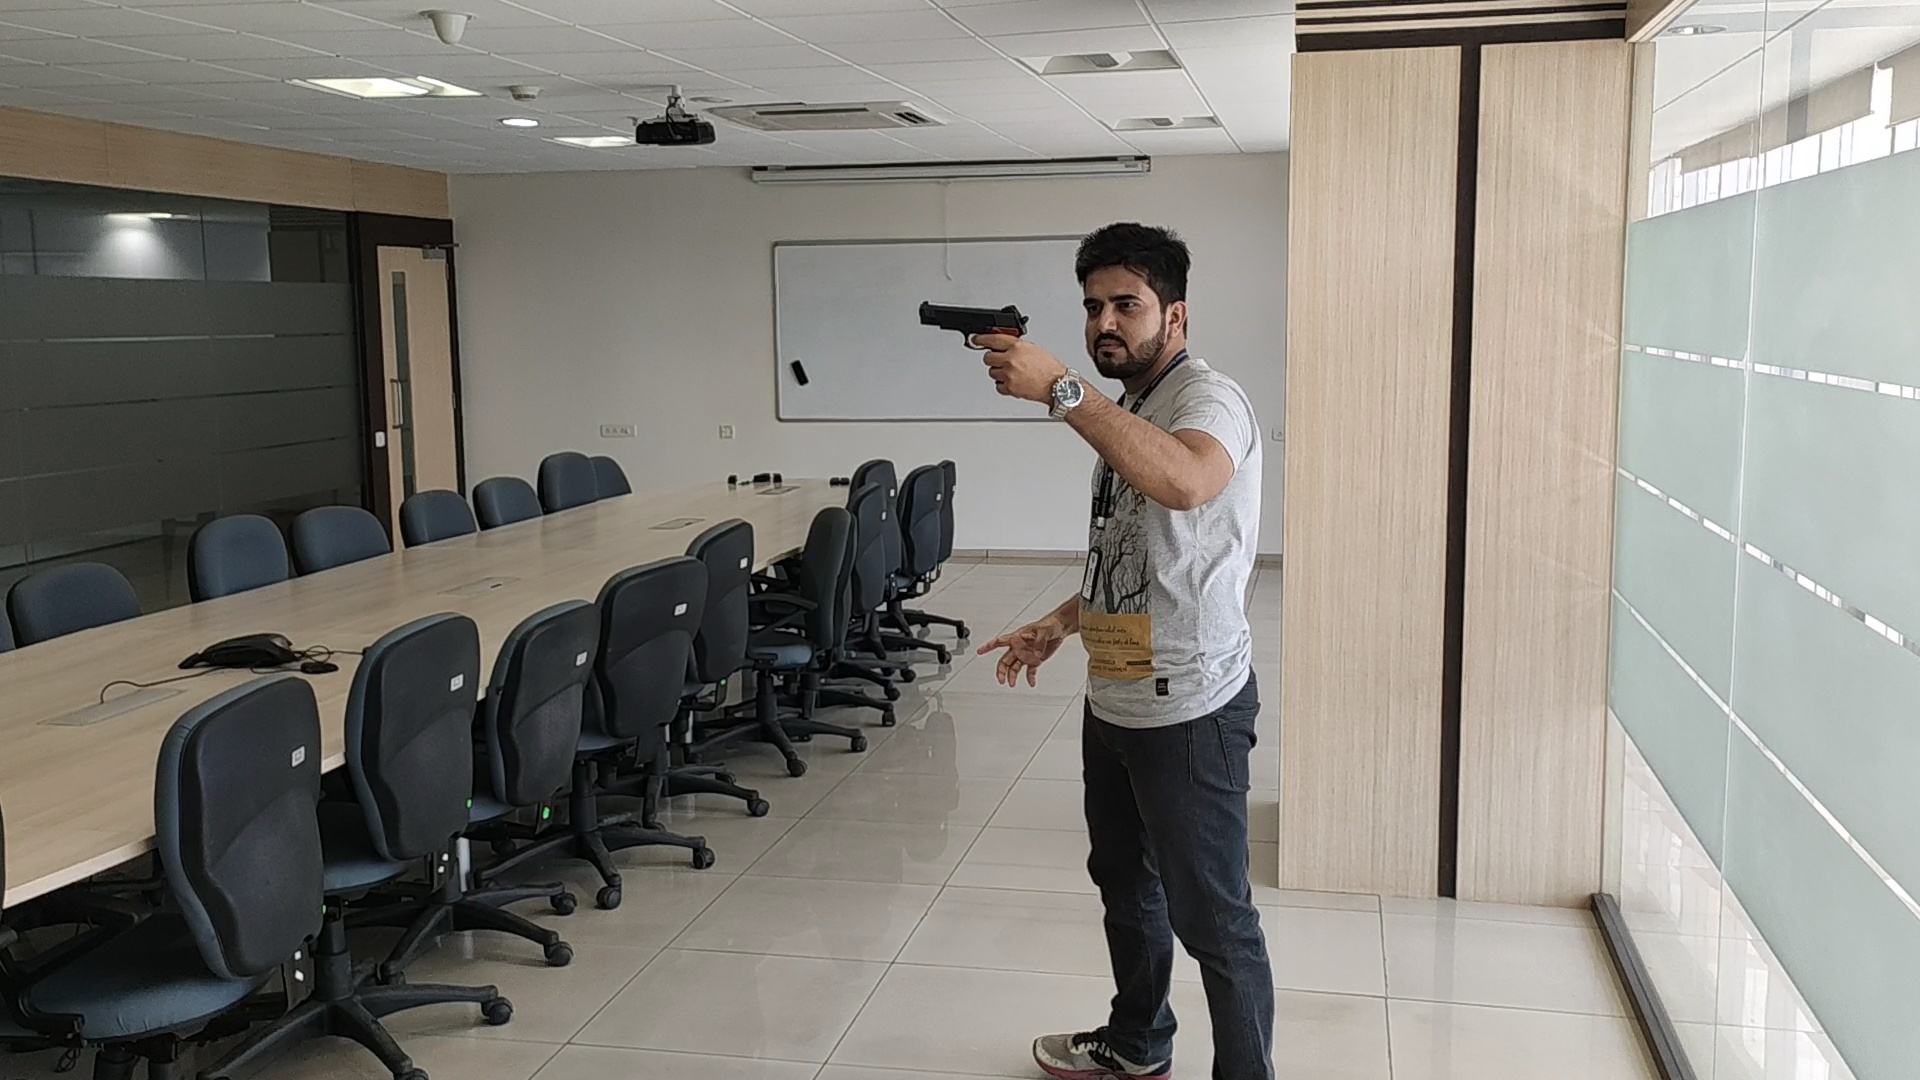gun: (918, 301, 1029, 334)
